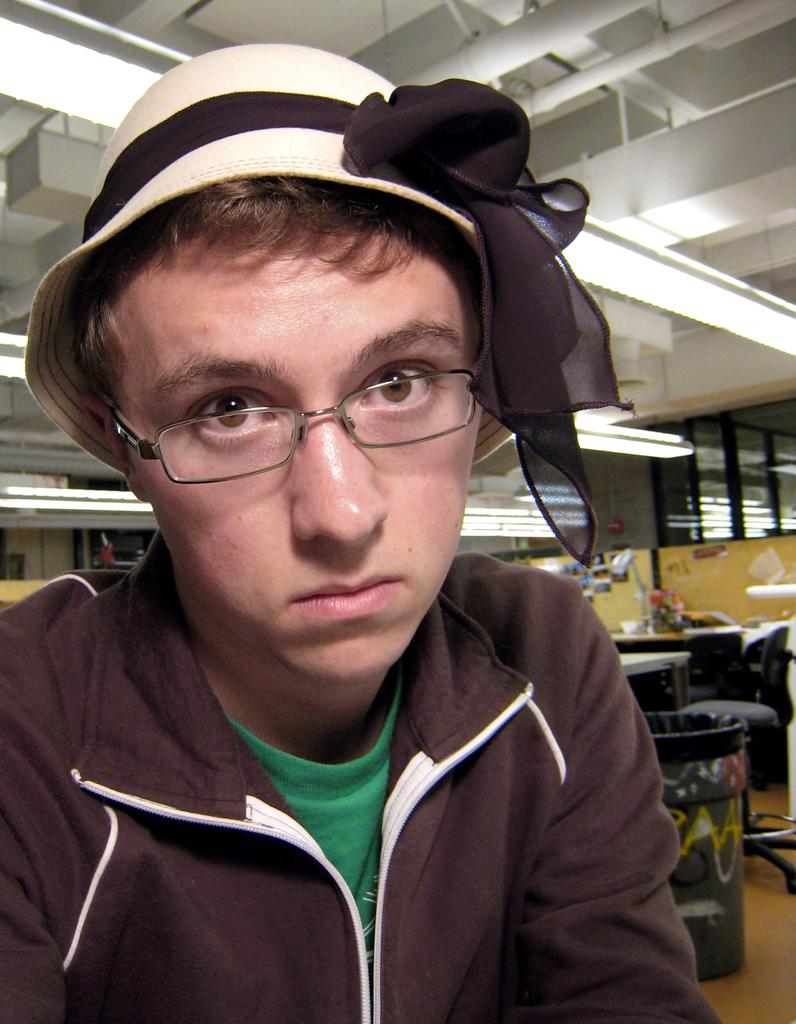Hat: (23, 39, 634, 564)
